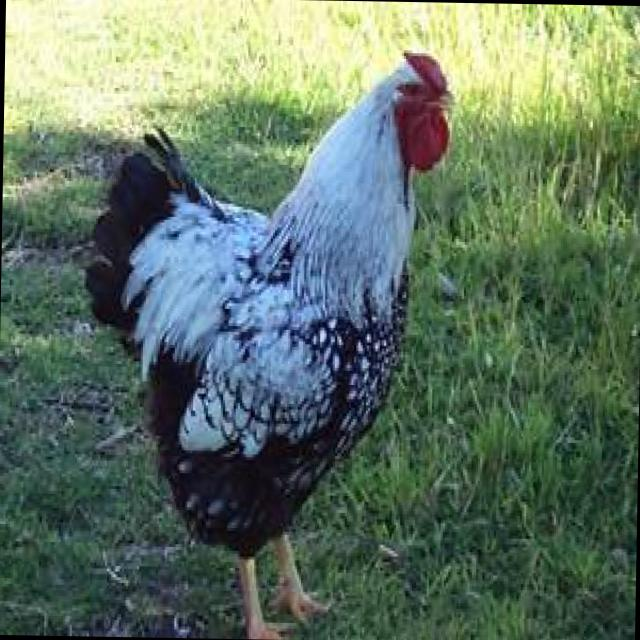animal: (78, 41, 459, 640)
